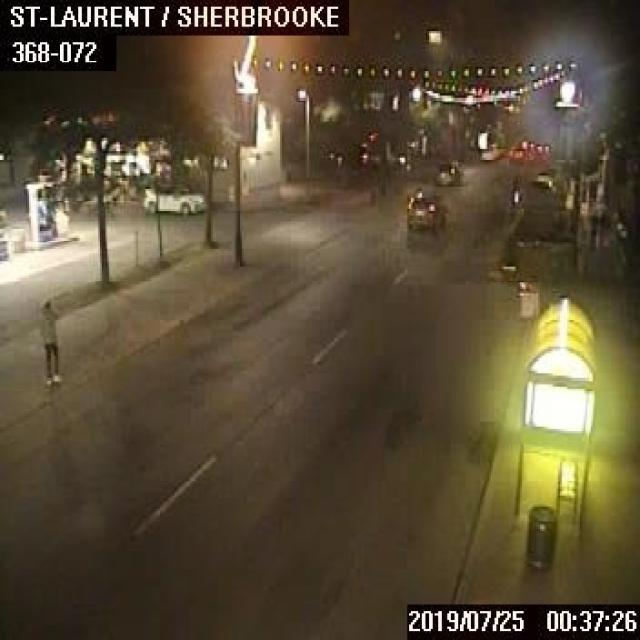construction: (369, 182, 376, 205)
pedestrian: (40, 298, 58, 384), (509, 173, 520, 204)
vehicle: (141, 182, 204, 212), (404, 190, 446, 229), (434, 158, 460, 184), (507, 139, 533, 159), (480, 140, 502, 158), (536, 169, 551, 186)
